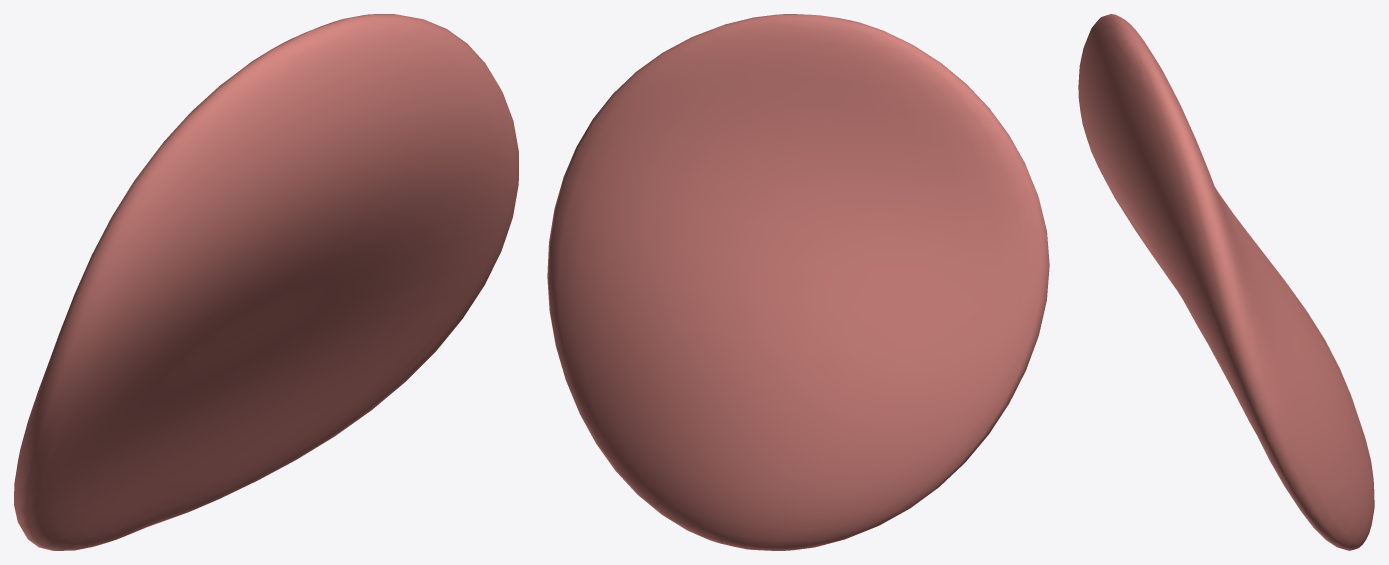
3 renders of one model, left to right at view 1: azimuth 30°, elevation 25°; view 2: azimuth 150°, elevation 25°; view 3: azimuth 270°, elevation 25°, orthographic. The views are drawn at different scales.
Visible parts, largest first — view 1: ZA_778a12ebb9a58cee; view 2: ZA_778a12ebb9a58cee; view 3: ZA_778a12ebb9a58cee.
Part boxes in pixels (x1,y1,x2,y2): ZA_778a12ebb9a58cee: (14, 14, 518, 550); ZA_778a12ebb9a58cee: (547, 14, 1049, 550); ZA_778a12ebb9a58cee: (1078, 14, 1374, 550).
Bounding box in the file's own units: 0.0301 × 0.0302 × 0.0163.
